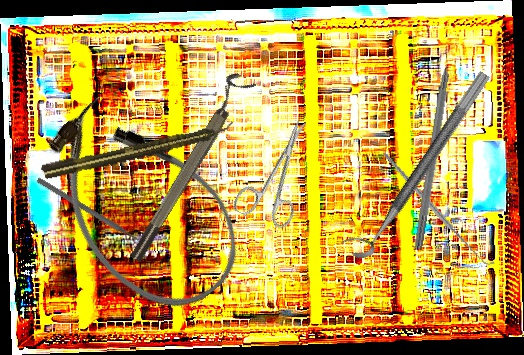Cannula: (18, 75, 265, 336)
Fixation Ring: (338, 59, 492, 265), (119, 69, 256, 265)
Handpiece: (39, 119, 237, 182)
Hook Surgical: (382, 134, 495, 283), (412, 38, 459, 252)
Iris Scissors: (231, 109, 331, 234)
Pusher: (35, 176, 154, 252)
